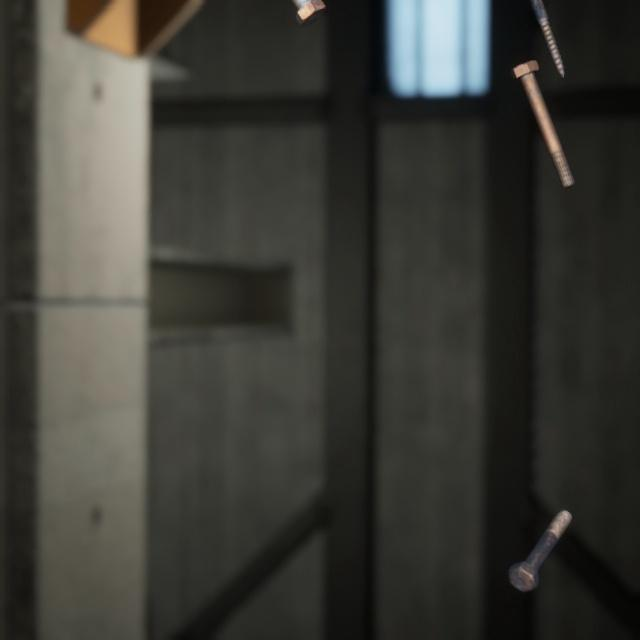bolt: (505, 43, 579, 180), (503, 483, 576, 574), (527, 0, 569, 73), (289, 0, 330, 26)
